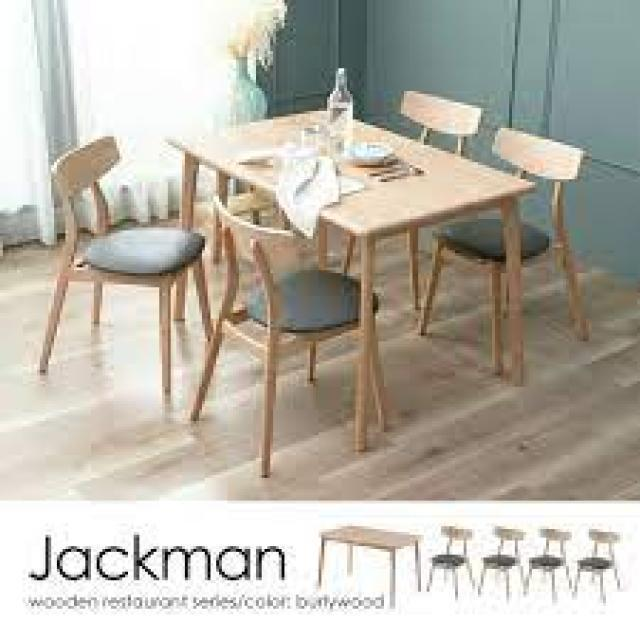table: (32, 82, 602, 487)
